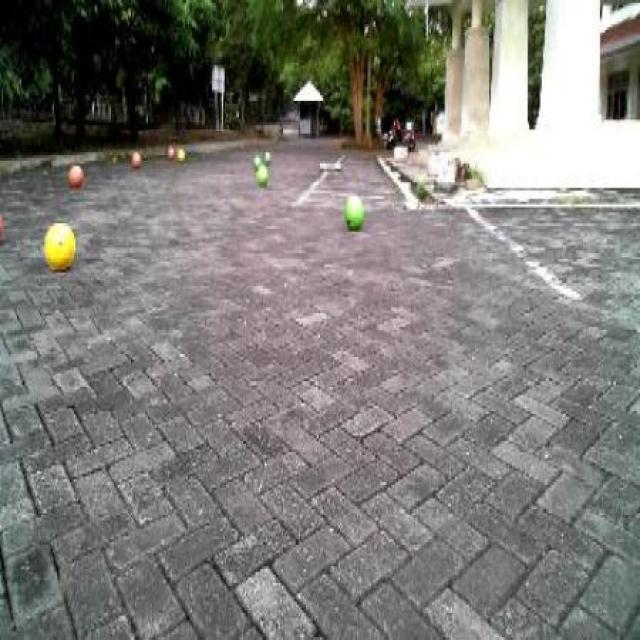buoy: (42, 217, 77, 271), (340, 188, 368, 234), (66, 159, 88, 192), (254, 160, 272, 190), (127, 149, 143, 167), (251, 150, 262, 170)
